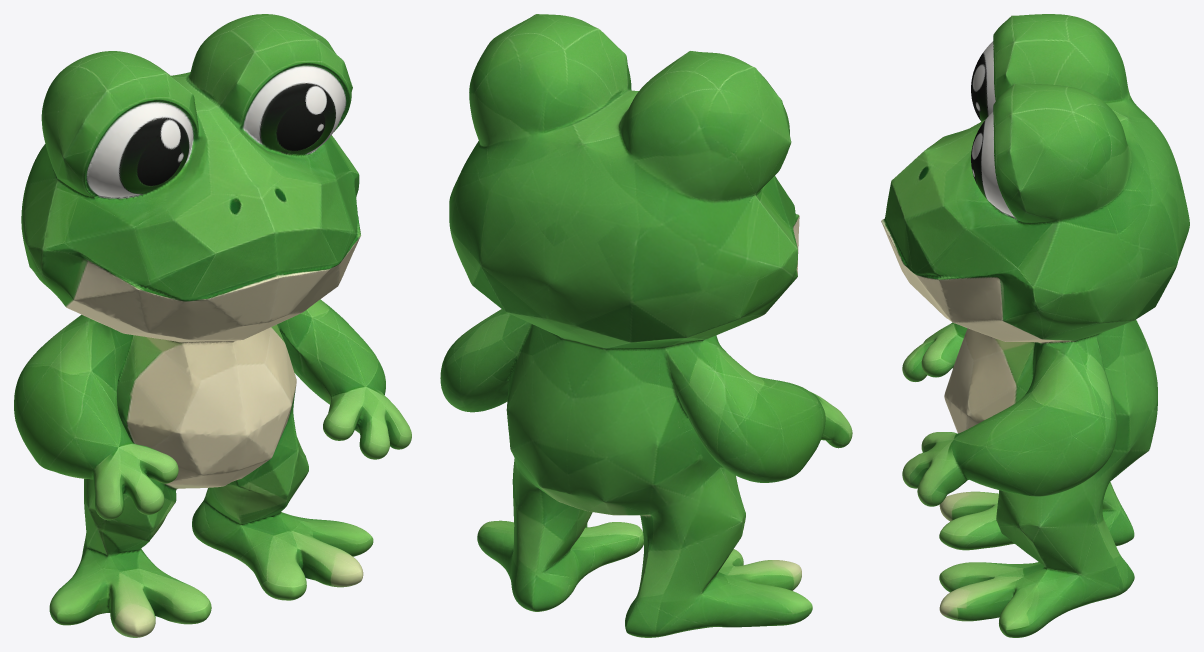
File: meshy-froggy-jump.glb
3 views of the same model, side by side, from view 1: azimuth 30°, elevation 25°; view 2: azimuth 150°, elevation 25°; view 3: azimuth 270°, elevation 25° (orthographic). The views are drawn at different scales.
Bounding box in the file's own units: 1.23 × 1.9 × 1.03.
1 material, 1 textured.
